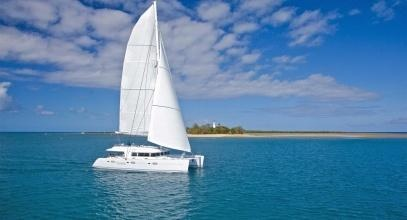fanchuan: (90, 1, 218, 172)
